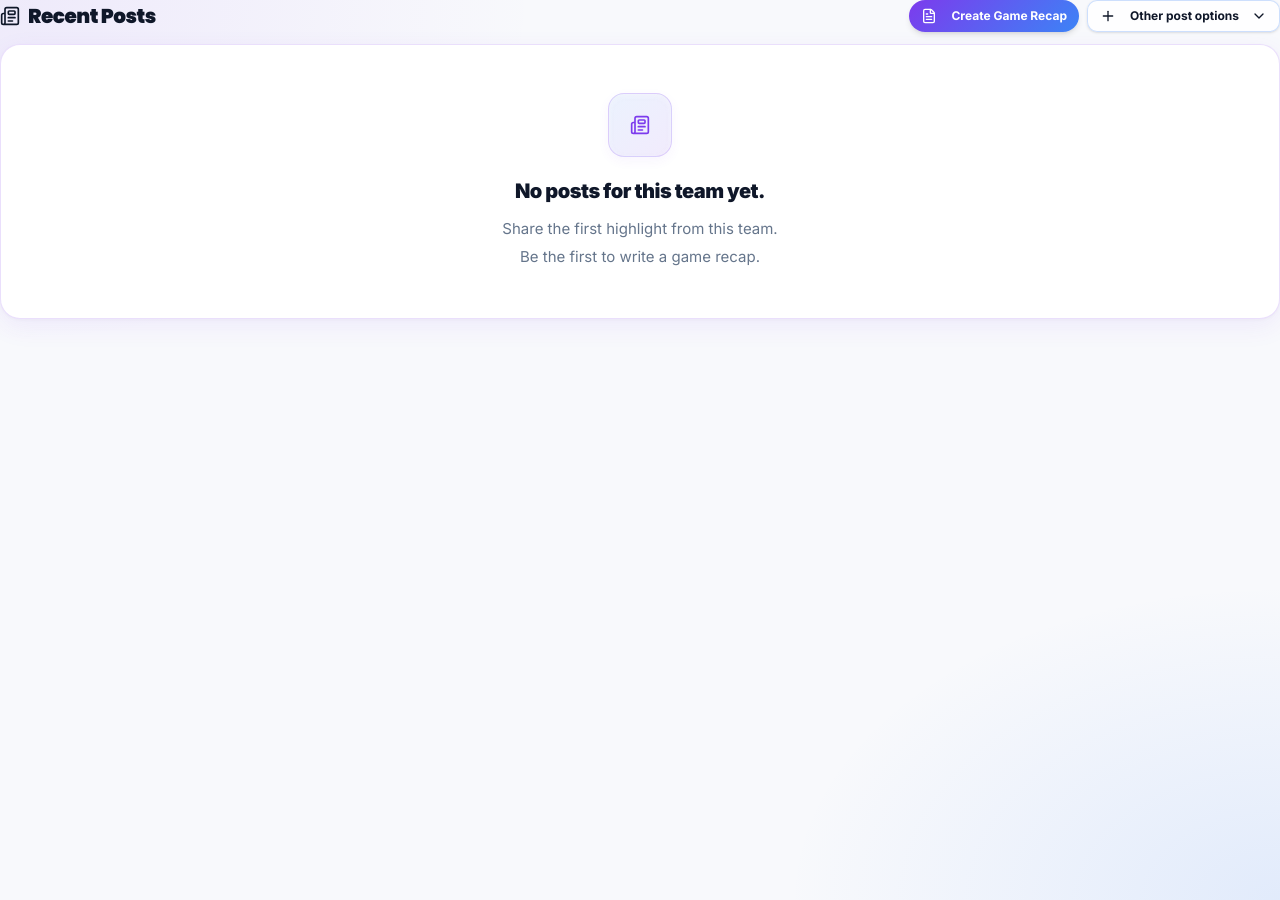
it: TeamPostsSection action hierarchy › submits an optional game-played date with a news link
Later steps or results of the test are not shown.
Click the button with test id "btn-open-post-options".
click(1184, 16)  # box x1=1087 y1=0 x2=1279 y2=32
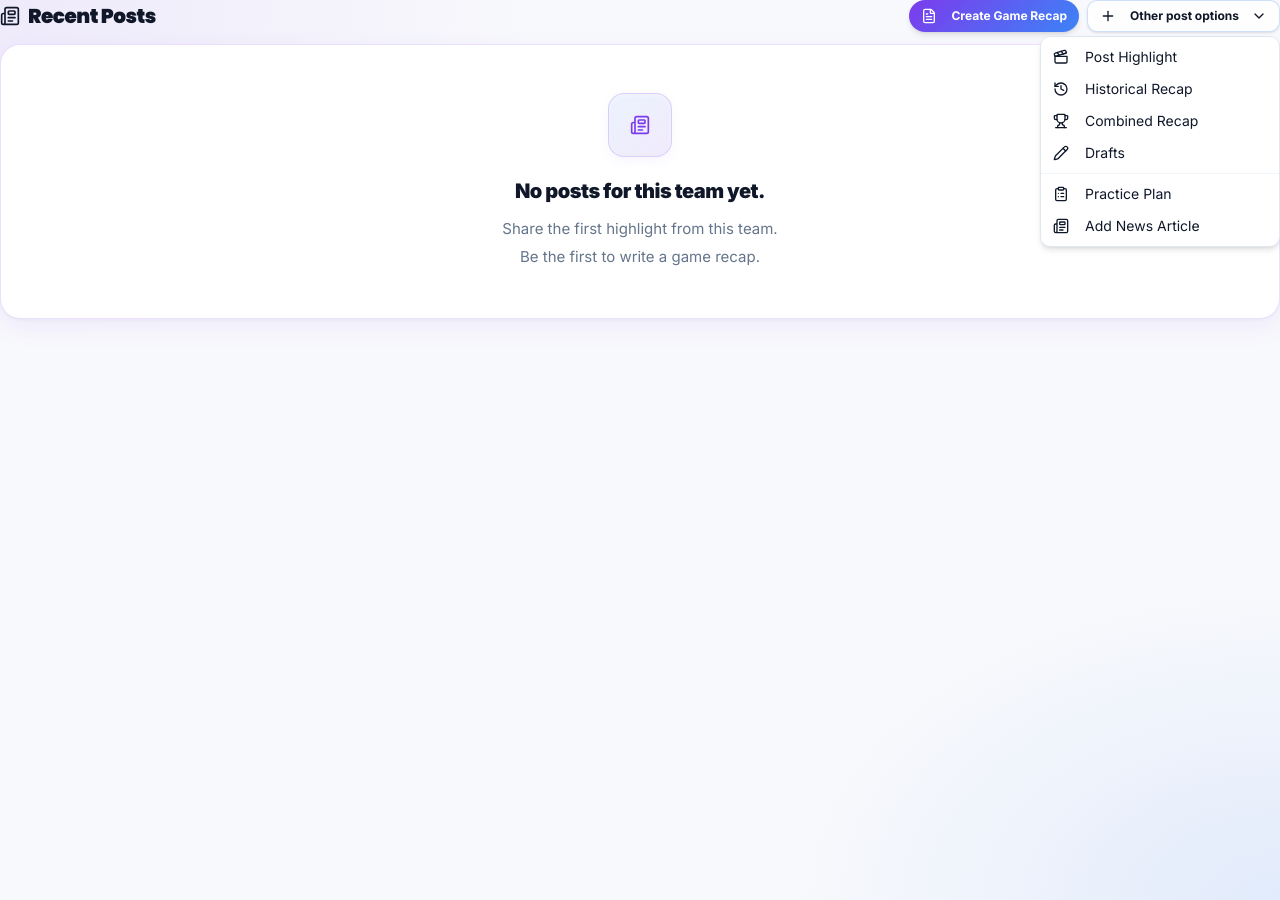
Click the menu item with test id "btn-add-news".
click(1126, 226)  # box x1=1053 y1=217 x2=1200 y2=234
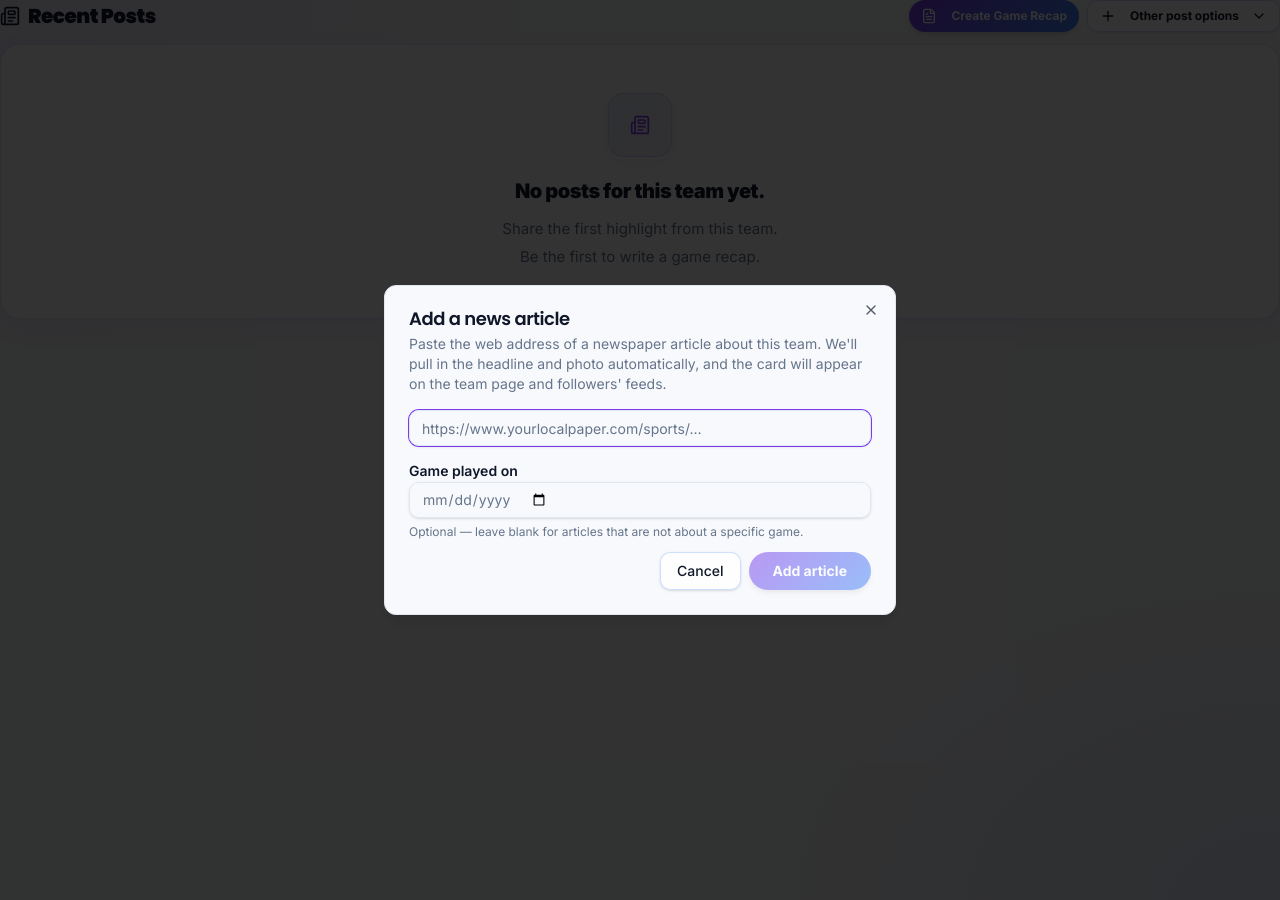
Type "https://localpaper.example/sports/wolves-win" into the field with test id "input-news-url".
click(640, 428); type("https://localpaper.example/sports/wolves-win")  # box x1=409 y1=410 x2=871 y2=446
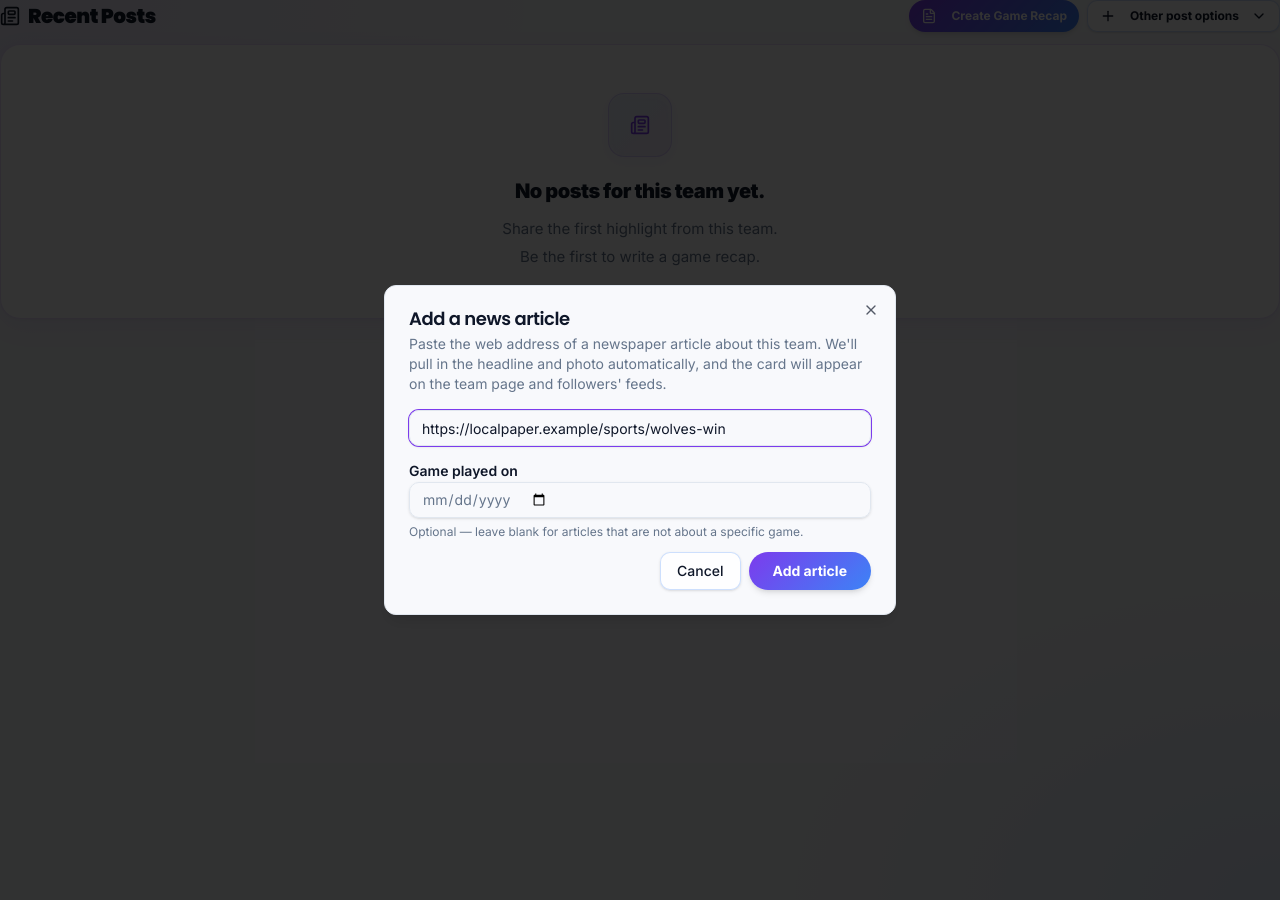
Type "2026-08-16" into the date field with test id "input-news-game-date".
click(640, 500); type("2026-08-16")  # box x1=409 y1=482 x2=871 y2=518
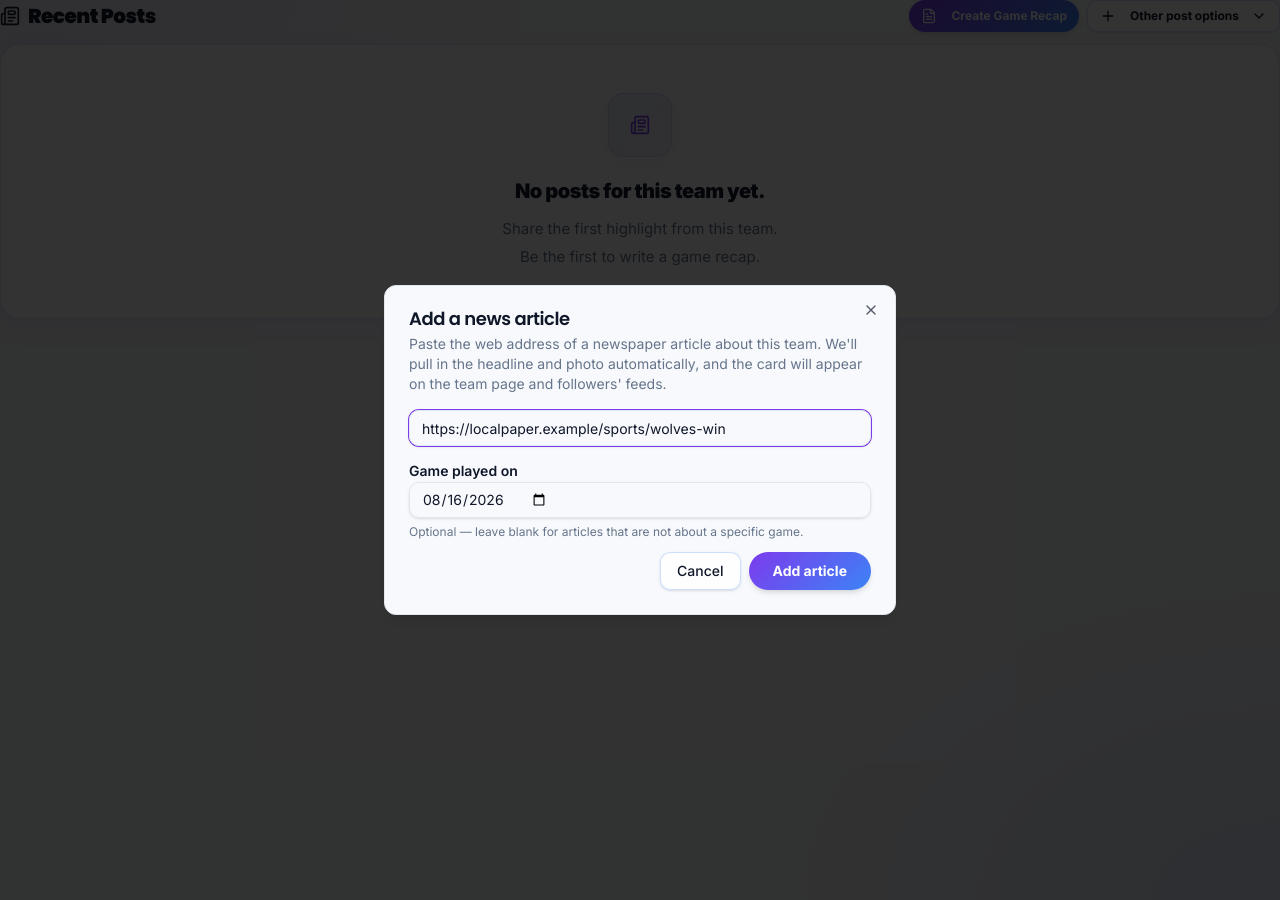
Check: the date field with test id "input-news-game-date" has class "text-foreground", box x1=409 y1=482 x2=871 y2=518
